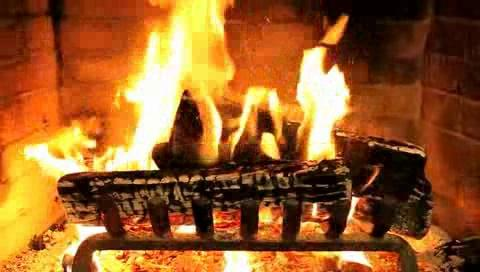fire: (75, 22, 351, 160)
